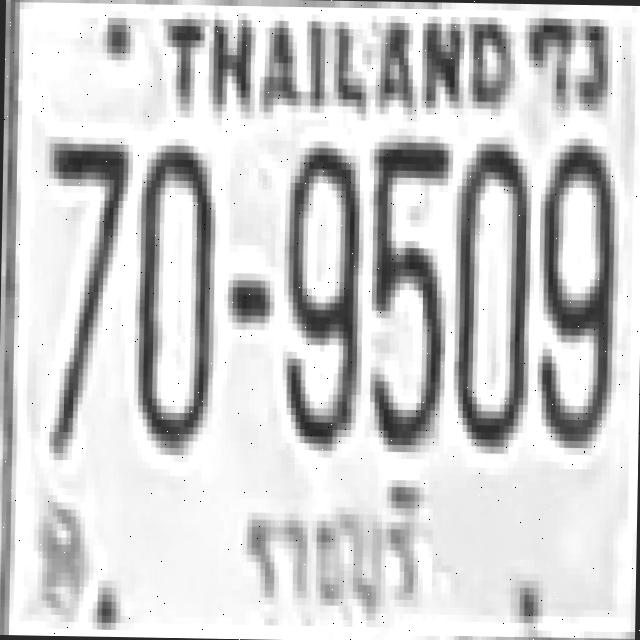0: (132, 138, 212, 448), (448, 136, 527, 440)
5: (364, 134, 444, 446)
7: (40, 140, 124, 450), (40, 136, 124, 419), (41, 136, 124, 348)
9: (532, 138, 616, 442), (281, 140, 360, 444)
Ratchaburi: (228, 474, 430, 630)
